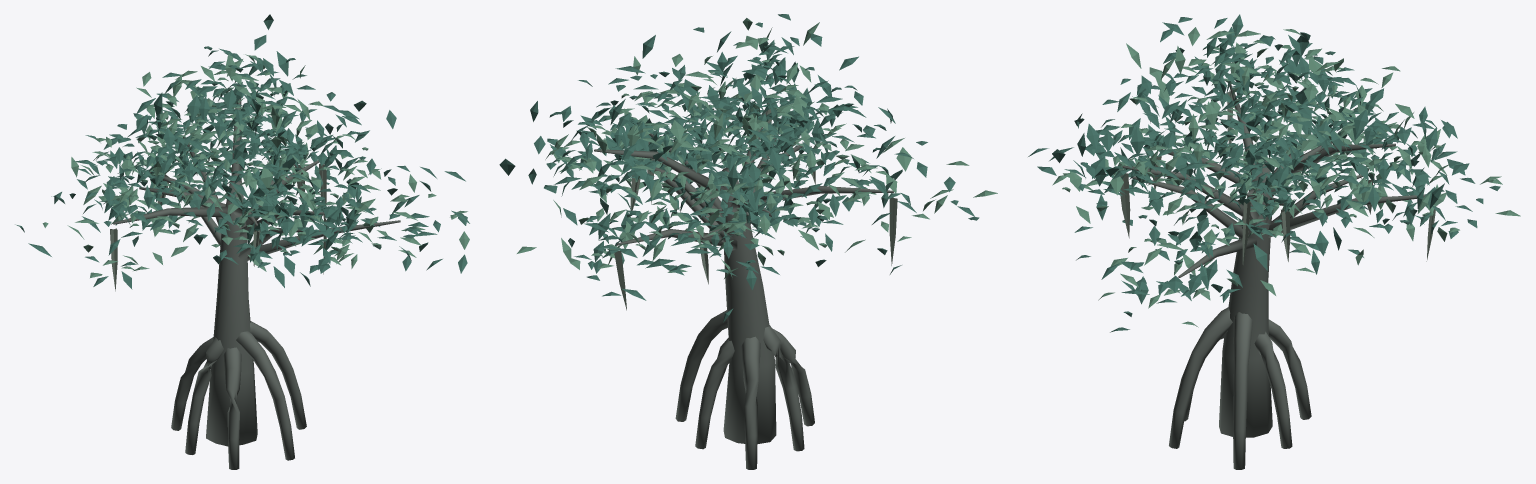
Rendered from mangrove.glb.
The picture shows the model from 3 angles, left to right: view 1: azimuth 30°, elevation 25°; view 2: azimuth 150°, elevation 25°; view 3: azimuth 270°, elevation 25°; orthographic projection. The views are drawn at different scales.
Visible parts, largest first — view 1: Moonwater mangrove leaves, Moonwater mangrove branches, Moonwater mangrove moss; view 2: Moonwater mangrove leaves, Moonwater mangrove branches, Moonwater mangrove moss; view 3: Moonwater mangrove leaves, Moonwater mangrove branches, Moonwater mangrove moss.
Boxes of the visible parts, box(x1,y1,x2,y2) form: Moonwater mangrove leaves: box(15, 14, 469, 289); Moonwater mangrove branches: box(113, 83, 400, 469); Moonwater mangrove moss: box(110, 151, 326, 291); Moonwater mangrove leaves: box(499, 14, 997, 322); Moonwater mangrove branches: box(594, 103, 893, 469); Moonwater mangrove moss: box(614, 109, 897, 310); Moonwater mangrove leaves: box(1028, 14, 1520, 332); Moonwater mangrove branches: box(1122, 84, 1425, 469); Moonwater mangrove moss: box(1120, 90, 1436, 266).
Size of the model in its own units: 7.64 by 6.59 by 7.11.
